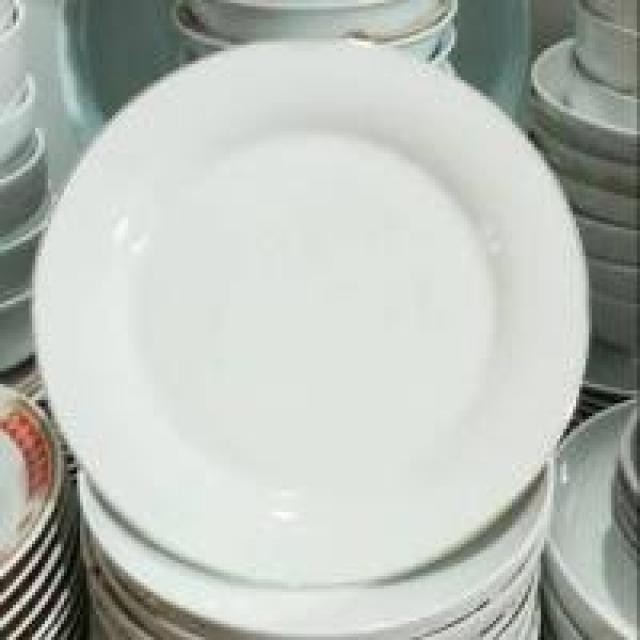Plate: (28, 27, 598, 604)
